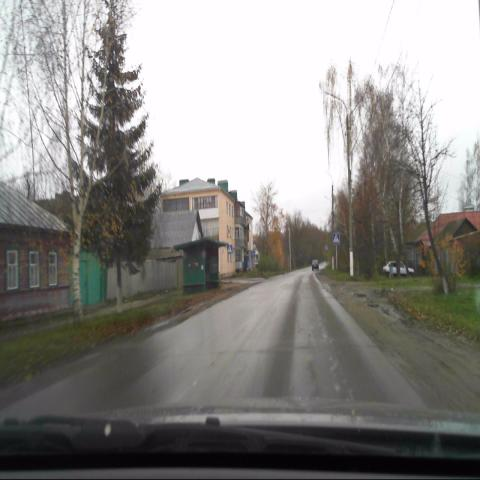5_19_1: (332, 232, 340, 244)
